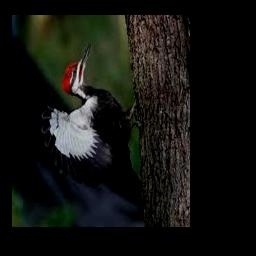Woodpecker: (41, 41, 140, 188)
